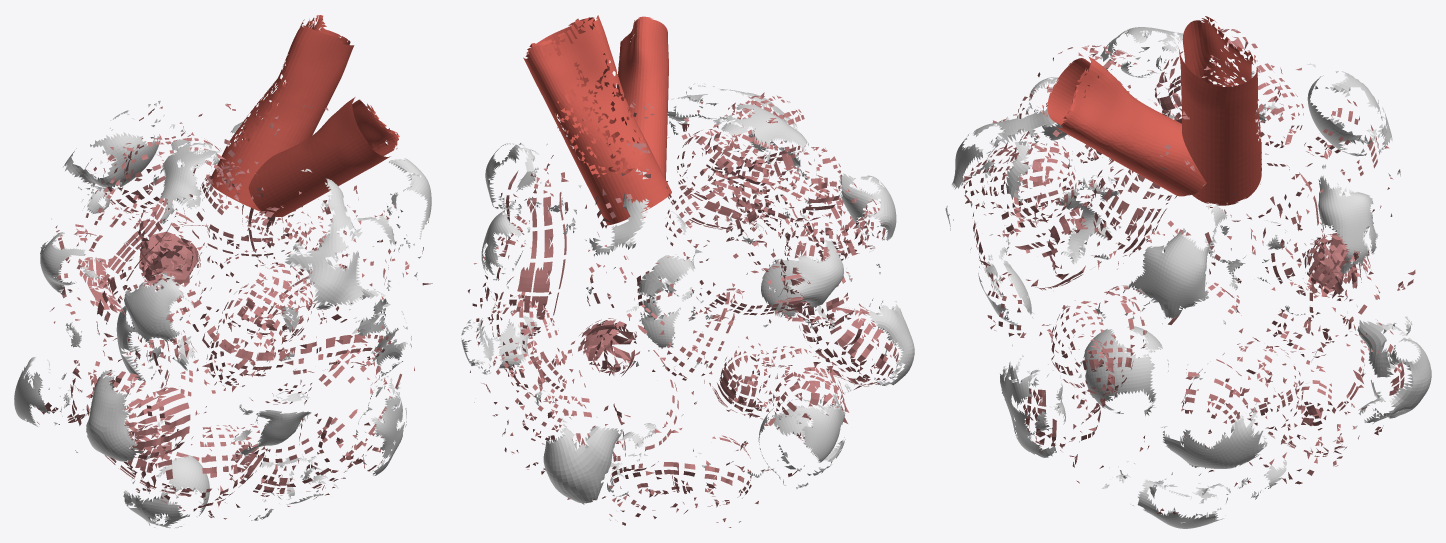
File: glomerulus.glb
3 views of the same model, side by side, from view 1: azimuth 30°, elevation 25°; view 2: azimuth 150°, elevation 25°; view 3: azimuth 270°, elevation 25° (orthographic). The views are drawn at different scales.
Visible parts, largest first — view 1: capillaries, afferent_arteriole, efferent_arteriole, podocyte_7, podocyte_8, podocyte_2, podocyte_1, podocyte_11, podocyte_5, podocyte_15, podocyte_4, podocyte_12 (+5 smaller); view 2: capillaries, afferent_arteriole, efferent_arteriole, podocyte_10, podocyte_11, podocyte_15, podocyte_12, podocyte_5, podocyte_2, podocyte_9, podocyte_8, podocyte_4 (+6 smaller); view 3: capillaries, afferent_arteriole, efferent_arteriole, podocyte_14, podocyte_10, podocyte_1, podocyte_3, podocyte_7, podocyte_9, podocyte_6, podocyte_11, podocyte_13 (+4 smaller).
Part boxes in pixels (<box>): capillaries: <box>37,103,432,519</box>; afferent_arteriole: <box>208,15,354,213</box>; efferent_arteriole: <box>248,97,399,217</box>; podocyte_7: <box>281,169,395,366</box>; podocyte_8: <box>86,370,143,461</box>; podocyte_2: <box>123,262,193,366</box>; podocyte_1: <box>123,450,218,528</box>; podocyte_11: <box>51,100,184,236</box>; podocyte_5: <box>153,139,221,224</box>; podocyte_15: <box>40,188,143,324</box>; podocyte_4: <box>225,391,311,465</box>; podocyte_12: <box>14,322,89,452</box>; capillaries: <box>468,92,898,527</box>; afferent_arteriole: <box>523,15,671,225</box>; efferent_arteriole: <box>608,16,668,179</box>; podocyte_10: <box>535,390,622,520</box>; podocyte_11: <box>563,168,713,366</box>; podocyte_15: <box>742,208,851,327</box>; podocyte_12: <box>744,318,855,485</box>; podocyte_5: <box>705,103,808,163</box>; podocyte_2: <box>836,173,896,273</box>; podocyte_9: <box>461,291,537,374</box>; podocyte_8: <box>866,298,914,385</box>; podocyte_4: <box>761,259,846,329</box>; capillaries: <box>953,29,1415,514</box>; afferent_arteriole: <box>1178,16,1261,207</box>; efferent_arteriole: <box>1042,56,1206,196</box>; podocyte_14: <box>1095,184,1227,379</box>; podocyte_10: <box>1333,316,1431,449</box>; podocyte_1: <box>1078,326,1168,416</box>; podocyte_3: <box>1270,164,1378,274</box>; podocyte_7: <box>945,109,1089,282</box>; podocyte_9: <box>1160,403,1267,468</box>; podocyte_6: <box>1000,344,1065,457</box>; podocyte_11: <box>1307,63,1400,216</box>; podocyte_13: <box>1102,459,1286,528</box>.
Size of the model in its own units: 0.0475 by 0.0568 by 0.0479.
